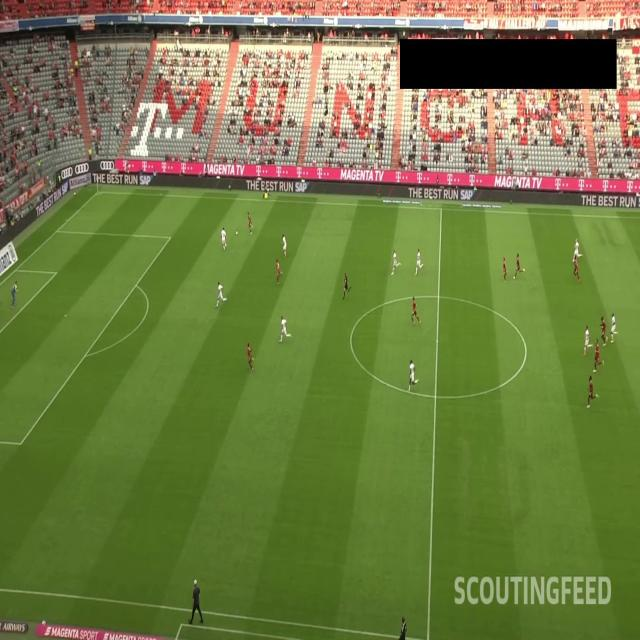ball: (235, 226, 239, 238)
player: (586, 372, 600, 410), (278, 312, 292, 346), (407, 357, 420, 393), (214, 279, 228, 309), (412, 246, 426, 276), (583, 322, 595, 356), (598, 314, 610, 345), (594, 339, 604, 375), (411, 294, 422, 326), (390, 248, 402, 276), (514, 252, 526, 280), (572, 237, 584, 264), (610, 312, 620, 344), (572, 254, 582, 283), (10, 280, 19, 308), (219, 224, 228, 252), (275, 258, 284, 286), (246, 343, 254, 372), (281, 230, 288, 261), (246, 209, 253, 236), (502, 255, 509, 282)
referee: (341, 270, 353, 301), (261, 177, 270, 202)
